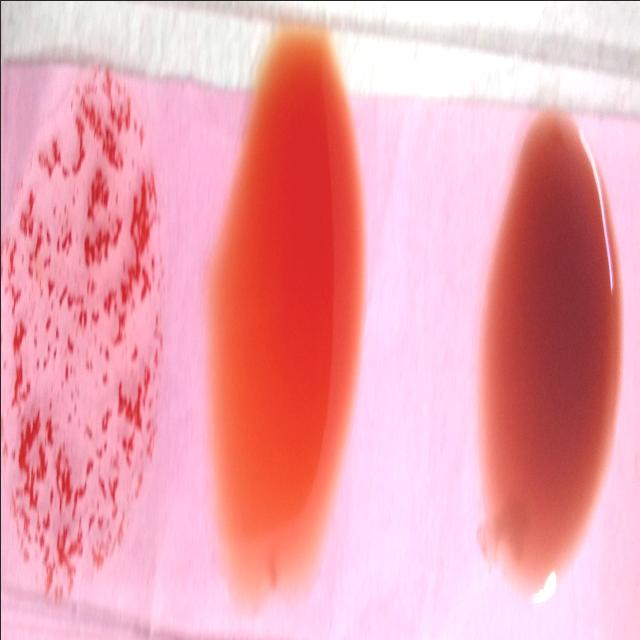D: (5, 58, 162, 590)
